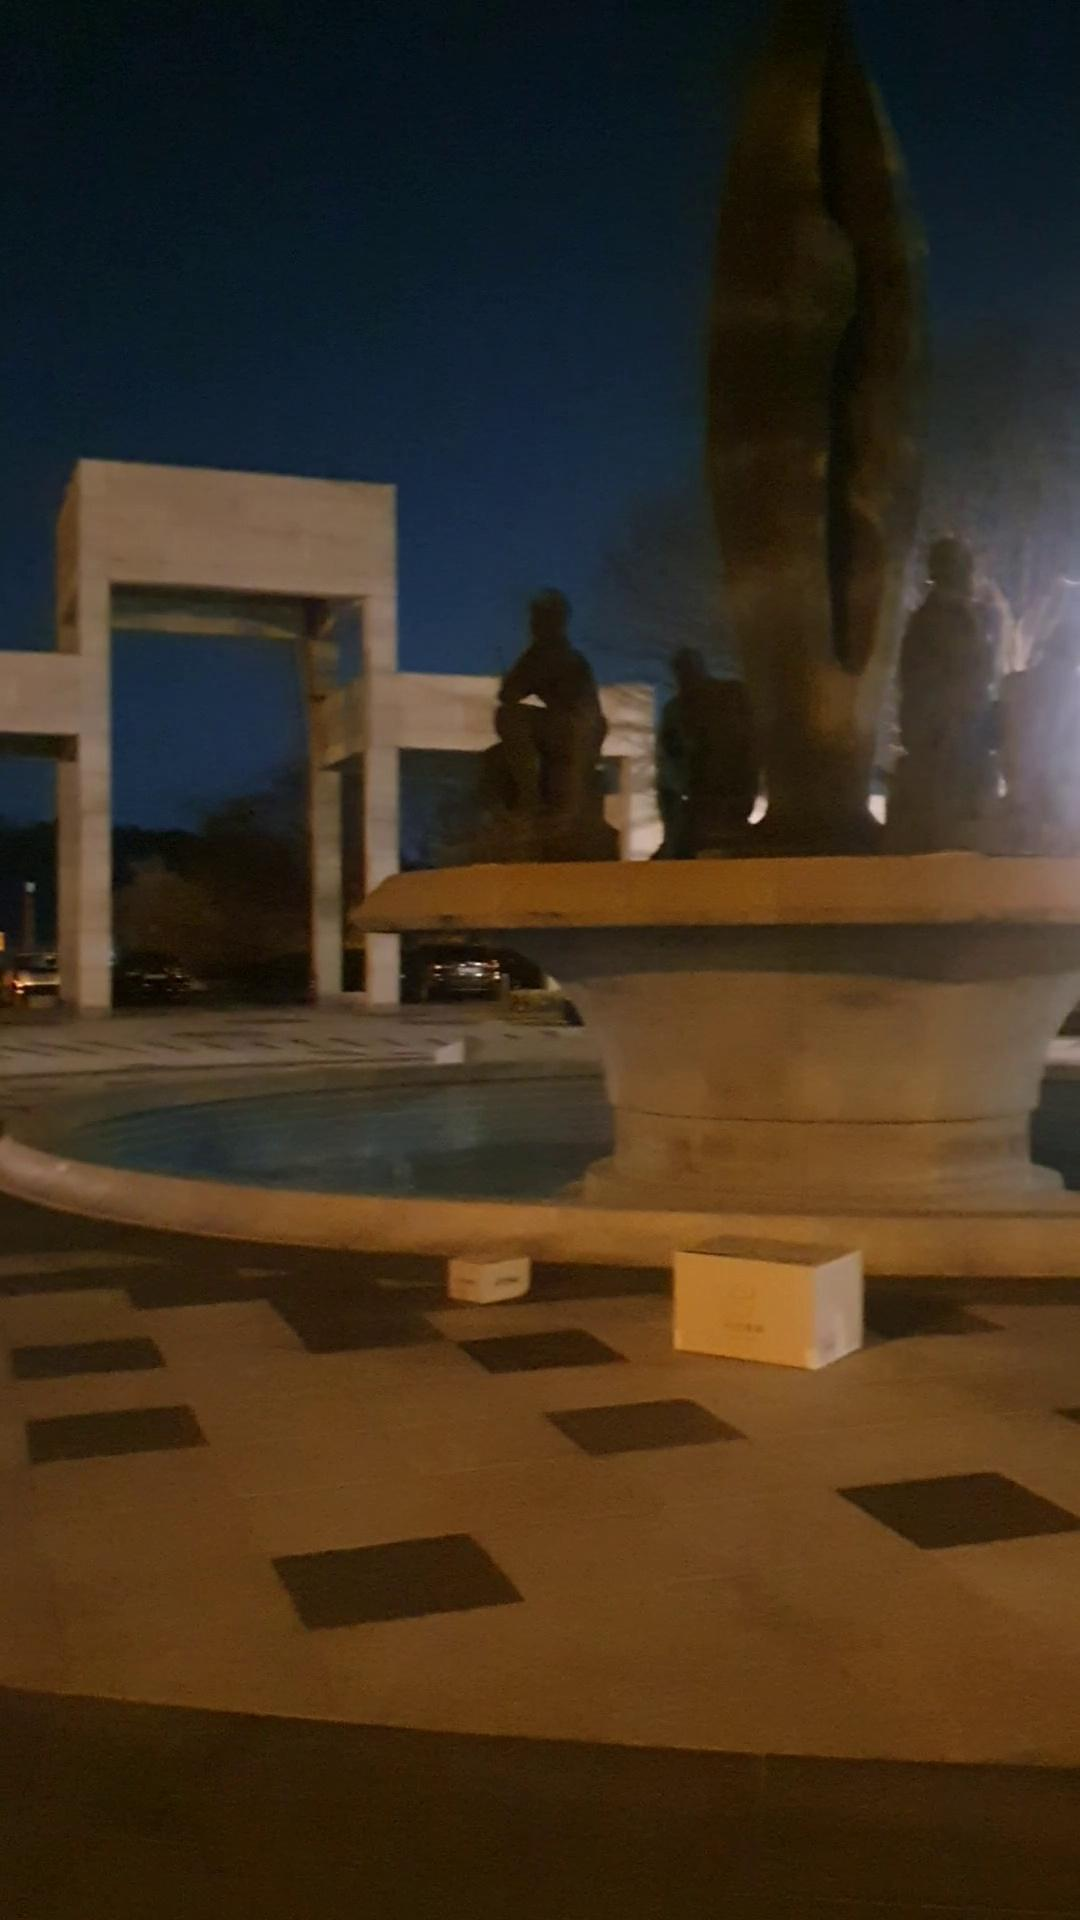Box: (653, 1215, 872, 1371), (431, 1230, 555, 1317)
